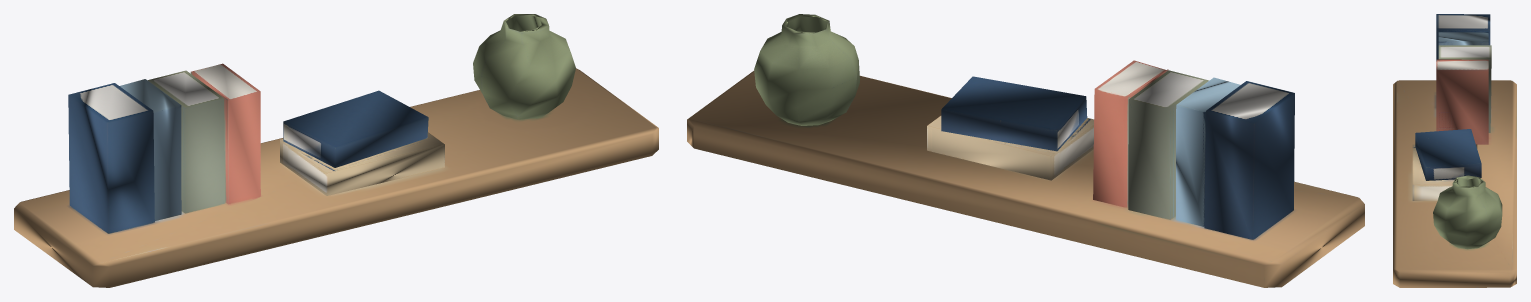
The model's file is wall_shelf.fbx.
3 views of the same model, side by side, from view 1: azimuth 30°, elevation 25°; view 2: azimuth 150°, elevation 25°; view 3: azimuth 270°, elevation 25° (orthographic). The views are drawn at different scales.
Parts seen in each view (by area): view 1: Mesh_0; view 2: Mesh_0; view 3: Mesh_0.
Boxes of the visible parts, x1,y1,x2,y2 form: Mesh_0: (14, 14, 658, 287); Mesh_0: (687, 14, 1364, 287); Mesh_0: (1393, 14, 1516, 287).
Size of the model in its own units: 95.75 by 22.07 by 26.03.
1 material, 1 textured.
